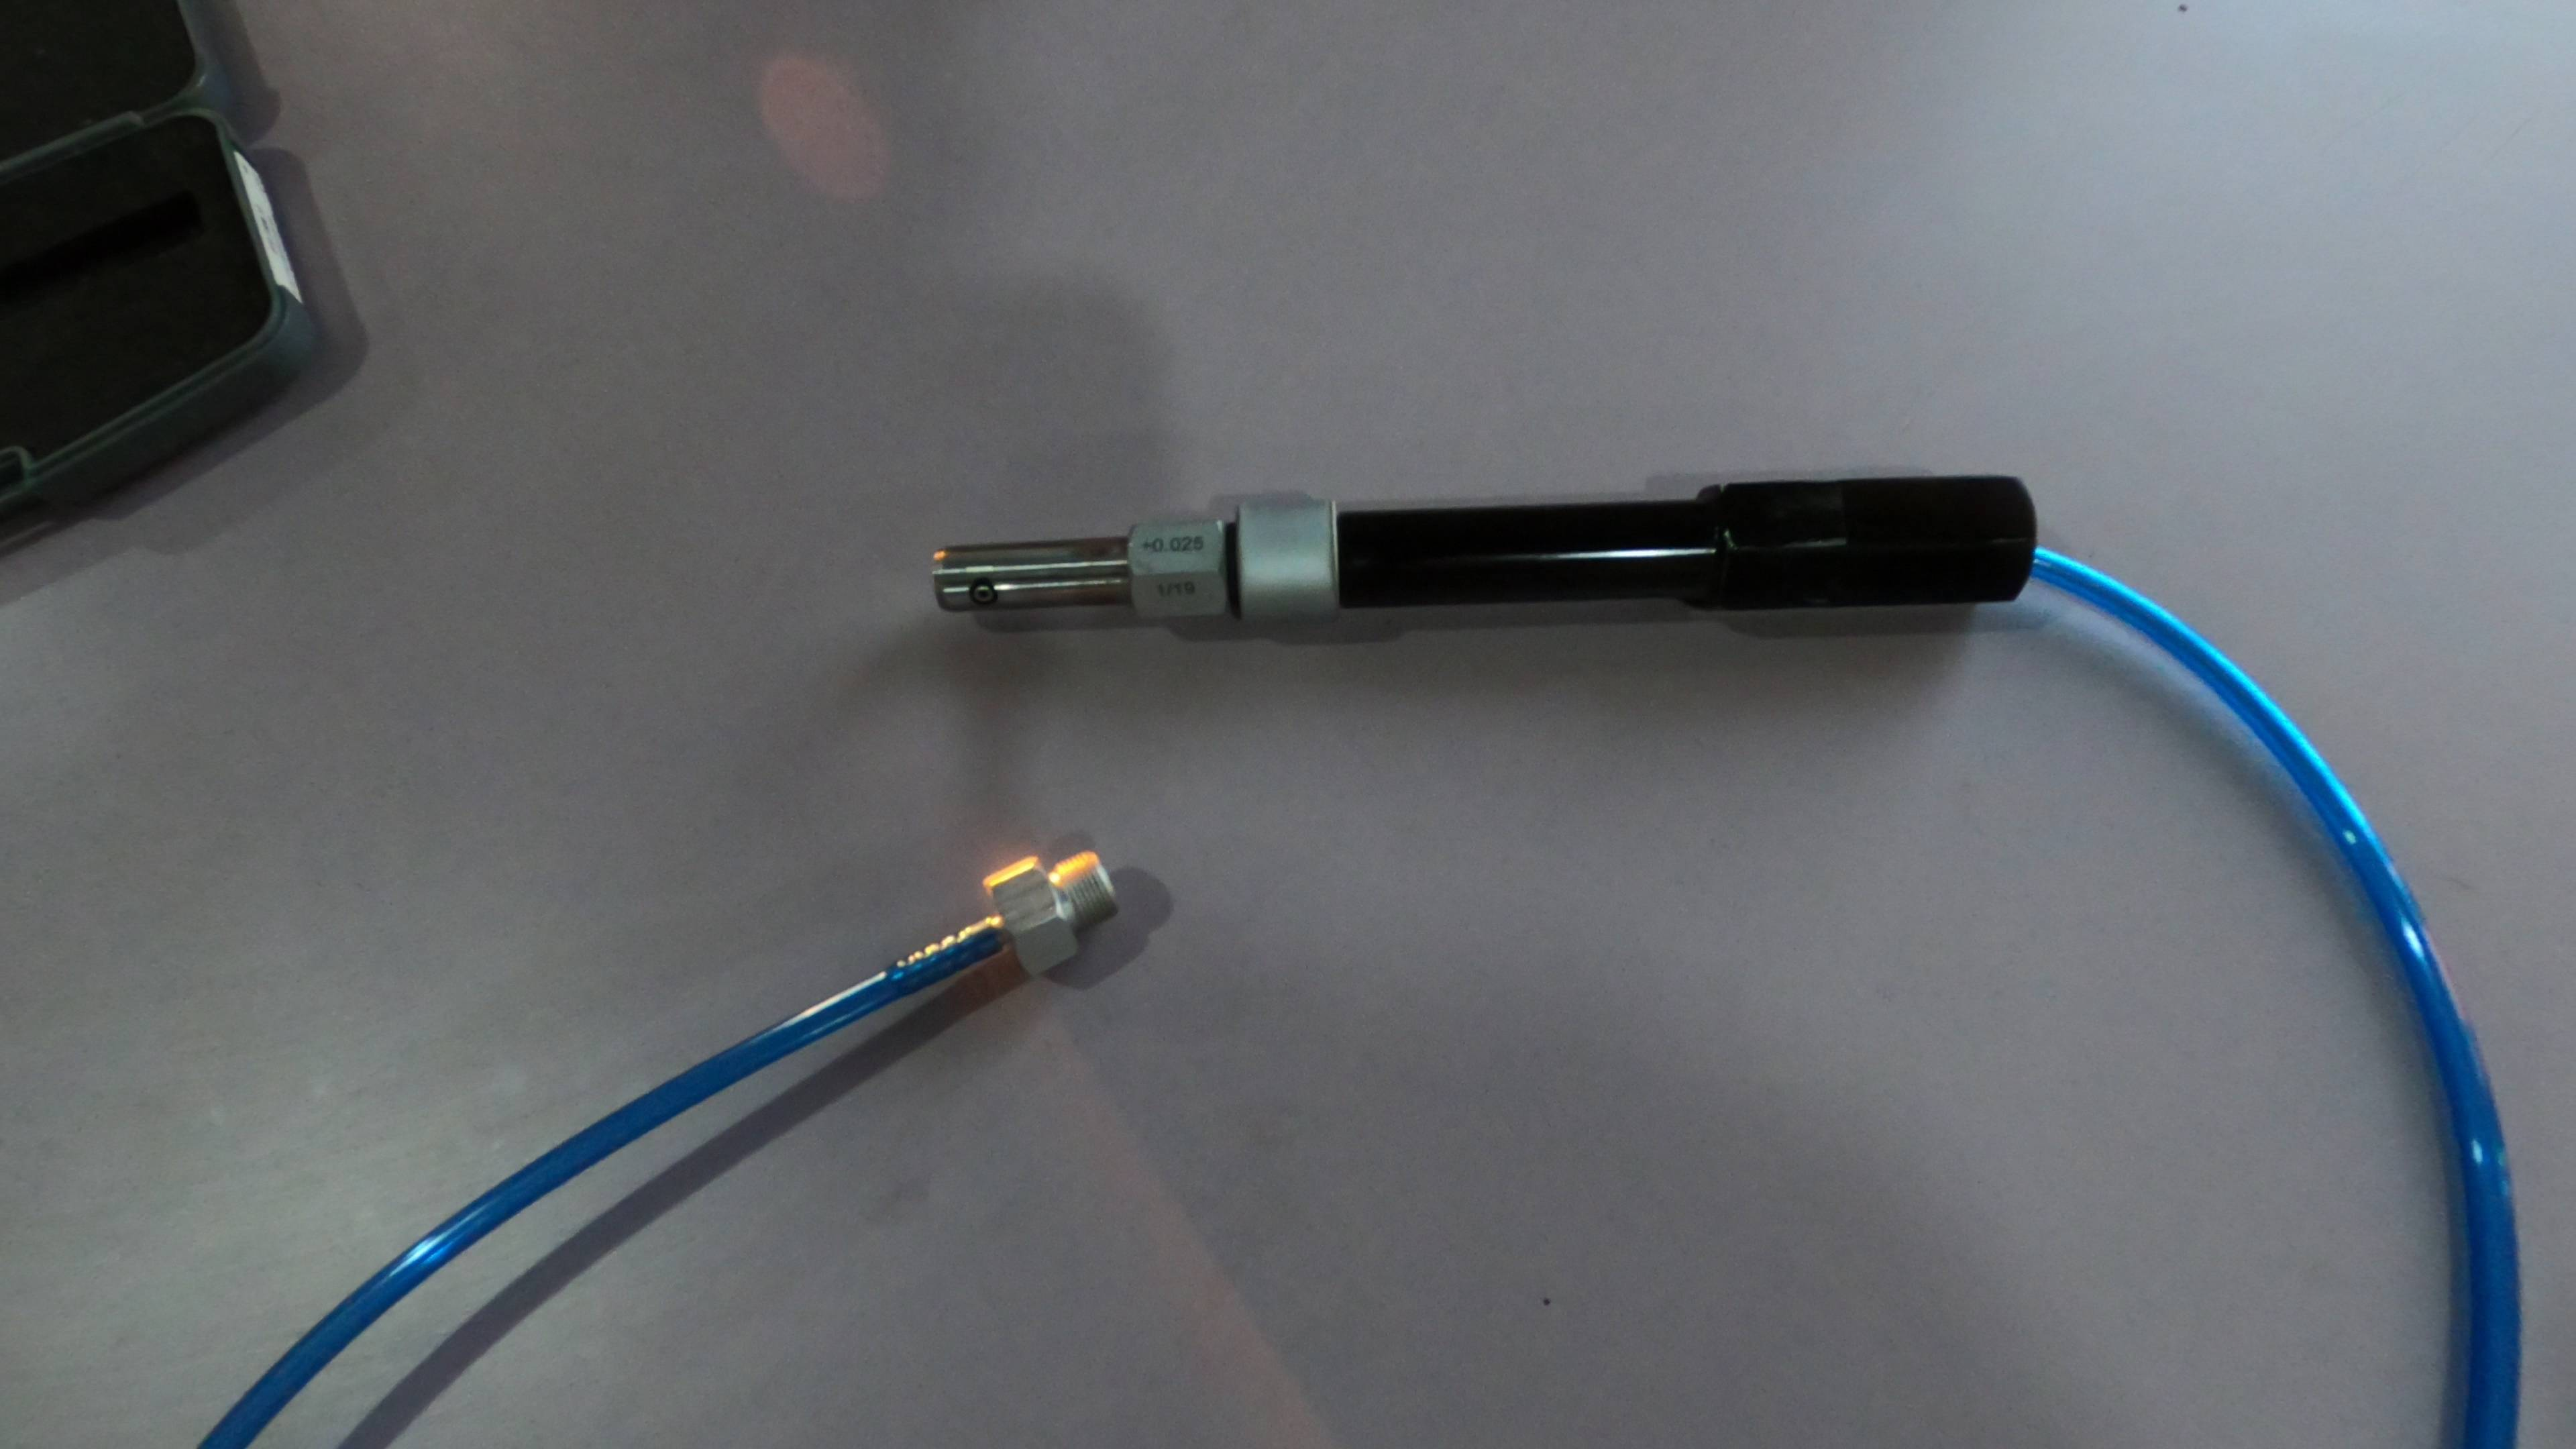air_gauge: (920, 464, 2065, 637)
